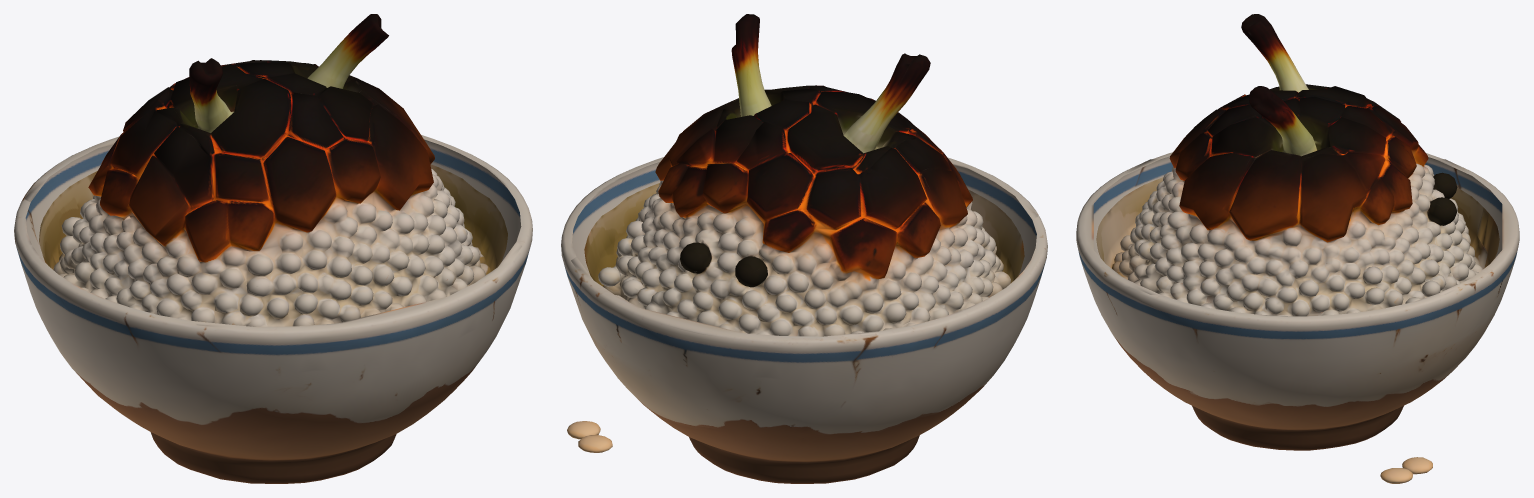
The model's file is burnt_rice_bowl.glb.
3 renders of one model, left to right at view 1: azimuth 30°, elevation 25°; view 2: azimuth 150°, elevation 25°; view 3: azimuth 270°, elevation 25°, orthographic. The views are drawn at different scales.
Visible parts, largest first — view 1: material; view 2: material; view 3: material.
Part boxes in pixels (bbox=[...]): material: bbox=[14, 14, 532, 483]; material: bbox=[561, 14, 1047, 483]; material: bbox=[1076, 14, 1519, 483].
Size of the model in its own units: 1.9 by 1.68 by 1.9.
Materials: 1 (1 with a texture image).
